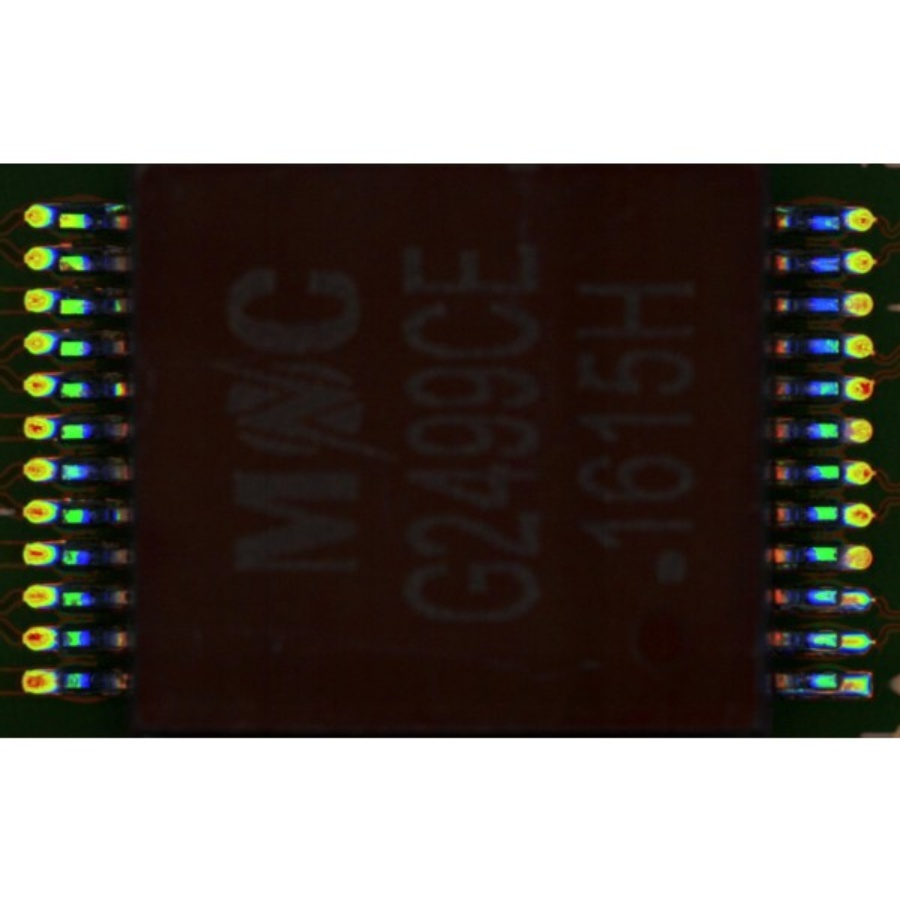Bad_podu: (828, 678, 857, 689), (825, 592, 853, 602), (829, 636, 857, 646)
Bad_qiaojiao: (785, 688, 838, 695)
